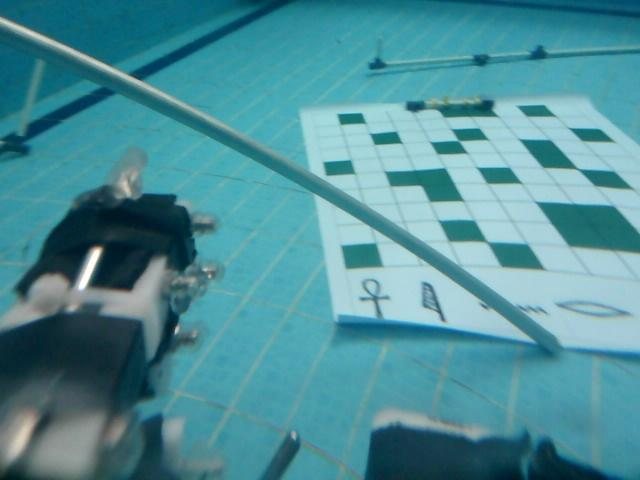Ankh: (355, 277, 393, 320)
Mouth: (553, 295, 632, 320)
Reed: (420, 279, 445, 327)
Water: (479, 300, 548, 315)
